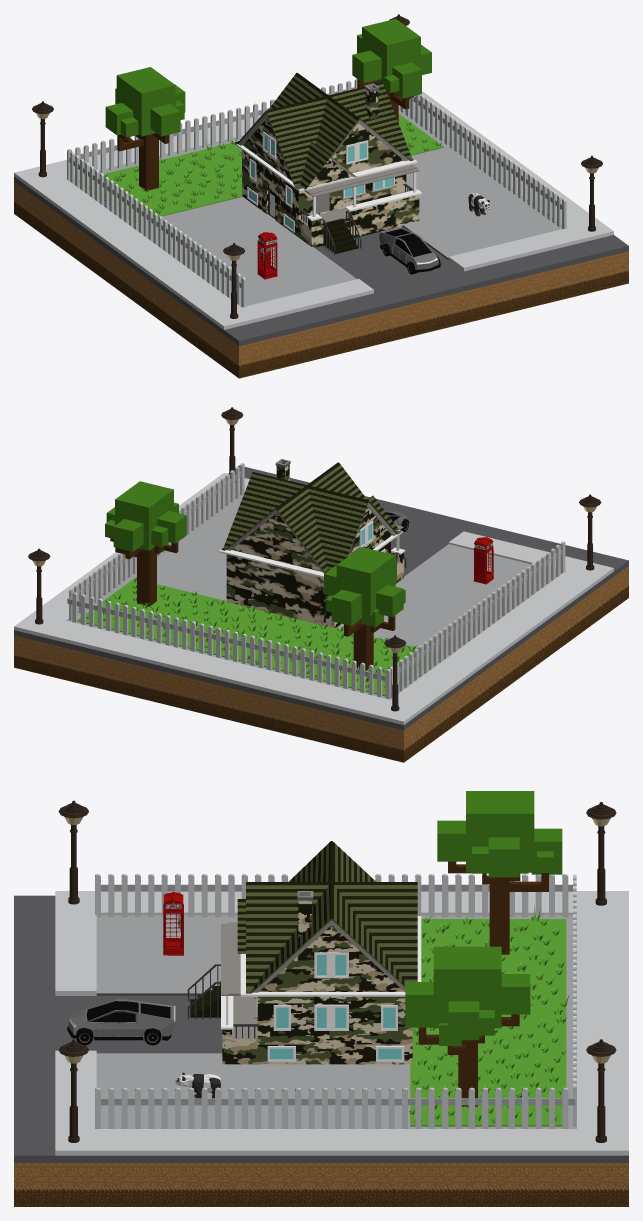
The picture shows the model from 3 angles, top to bottom: view 1: azimuth 30°, elevation 25°; view 2: azimuth 150°, elevation 25°; view 3: azimuth 270°, elevation 25°; orthographic projection. The views are drawn at different scales.
Parts seen in each view (by area): view 1: Cube.004, Cube.001, VEHICLES_CYBERTRUCK, OBJRANDOM_PHONEBOOTH; view 2: Cube.004, Cube.001, OBJRANDOM_PHONEBOOTH; view 3: Cube.004, Cube.001, VEHICLES_CYBERTRUCK, OBJRANDOM_PHONEBOOTH, ANIMAL_PANDA.
Part boxes in pixels (x1,y1,x2,y2): Cube.004: (14, 14, 628, 378); Cube.001: (233, 72, 421, 254); VEHICLES_CYBERTRUCK: (379, 227, 440, 274); OBJRANDOM_PHONEBOOTH: (257, 232, 277, 279); Cube.004: (14, 407, 628, 762); Cube.001: (218, 459, 406, 627); OBJRANDOM_PHONEBOOTH: (473, 537, 493, 584); Cube.004: (14, 791, 628, 1206); Cube.001: (187, 841, 421, 1064); VEHICLES_CYBERTRUCK: (67, 999, 175, 1045); OBJRANDOM_PHONEBOOTH: (163, 892, 183, 955); ANIMAL_PANDA: (175, 1072, 221, 1098).
Size of the model in its own units: 4000 by 1756 by 4000.
36 materials, 5 textured.
